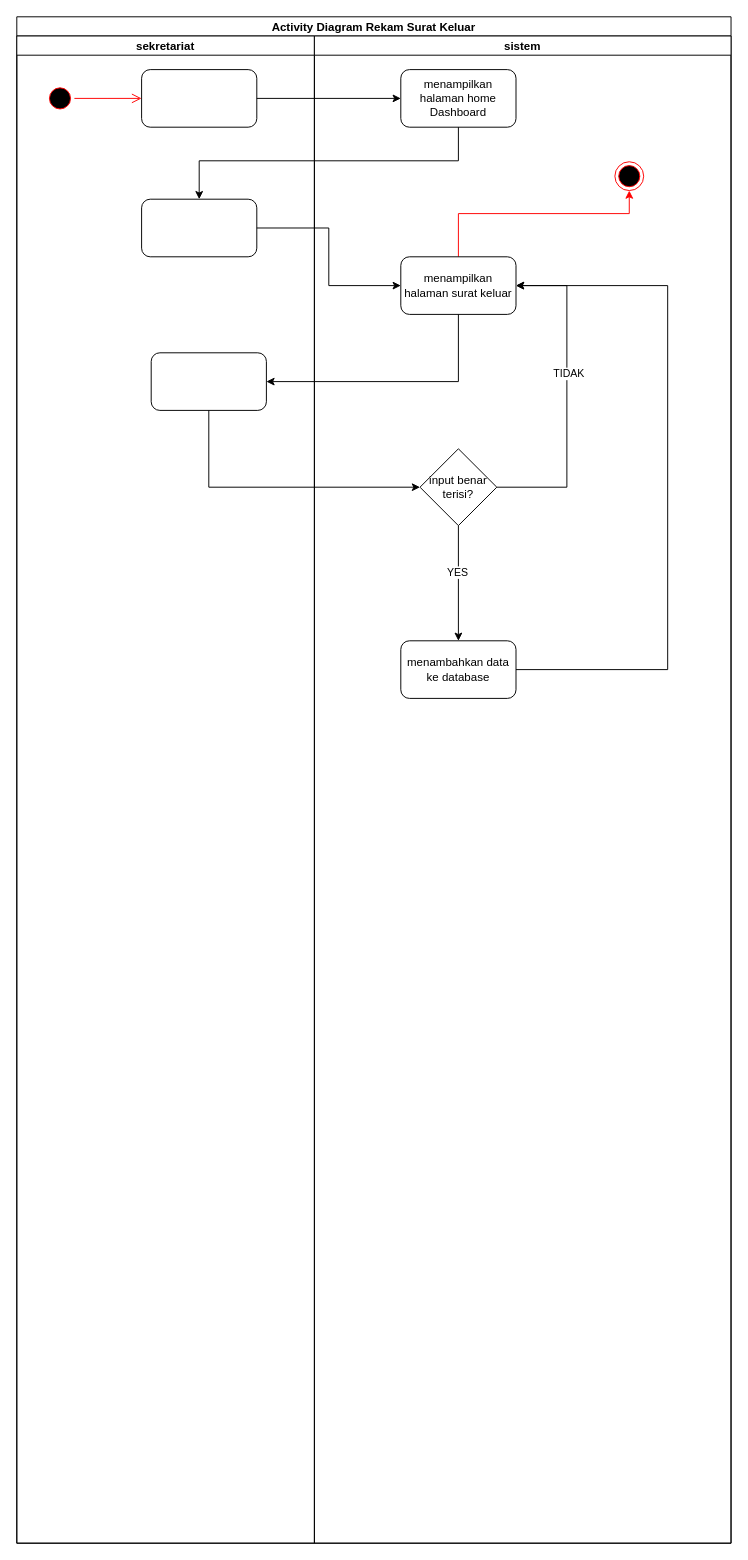
This 748x1560 diagram has some shape labels left out. Here are the shapes that lost their labels. From the top down, the centre of each, then its label:
point (199, 98): Login
point (199, 227): klik menu "Manajemen Surat" pilh "Surat Keluar"
point (208, 381): input data surat baru keluar
